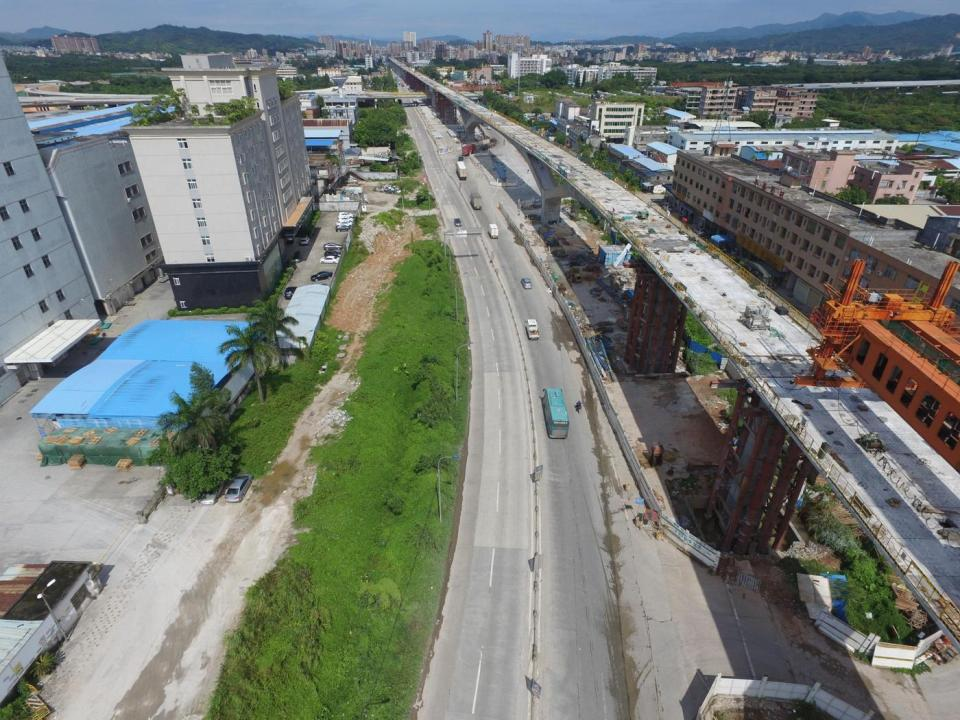bus: (542, 388, 569, 439)
car: (225, 473, 254, 501), (201, 474, 225, 505), (285, 287, 305, 300), (341, 186, 363, 197), (310, 271, 332, 281), (319, 255, 340, 264), (324, 242, 343, 250), (338, 217, 355, 224), (522, 277, 531, 289), (325, 251, 340, 258), (336, 225, 350, 232), (337, 220, 353, 226), (338, 212, 354, 218), (694, 228, 706, 236), (299, 236, 309, 245), (343, 178, 358, 184), (664, 204, 674, 212), (454, 218, 462, 226), (487, 125, 491, 129), (458, 157, 463, 160)
truck: (524, 319, 540, 339), (456, 161, 467, 180), (470, 193, 482, 210), (480, 139, 496, 150), (488, 224, 498, 240), (463, 144, 476, 156), (294, 251, 301, 263)
